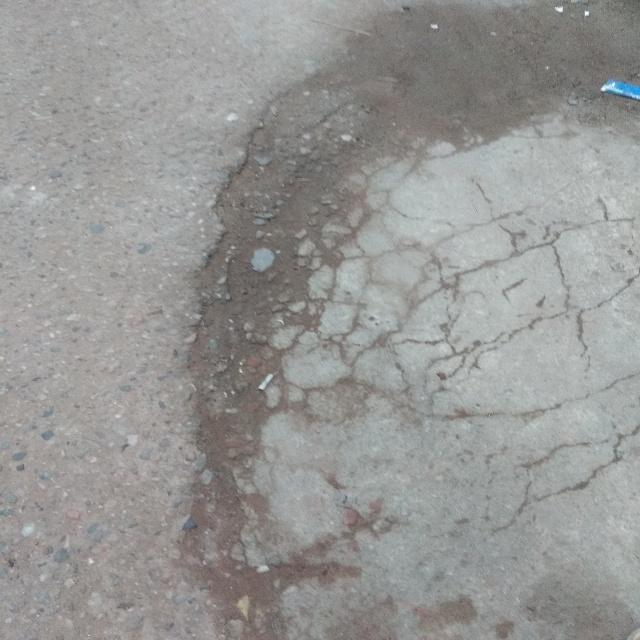Surface Erosion: (149, 91, 640, 560)
